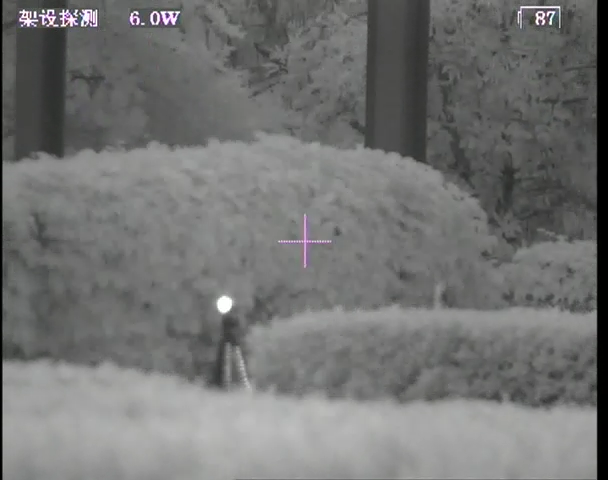my: (213, 296, 234, 315)
